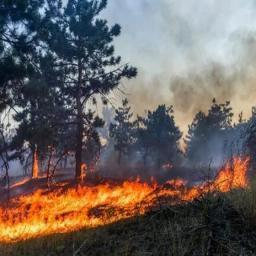Low smoke: (111, 42, 255, 174)
Medium fire: (1, 164, 250, 236)
